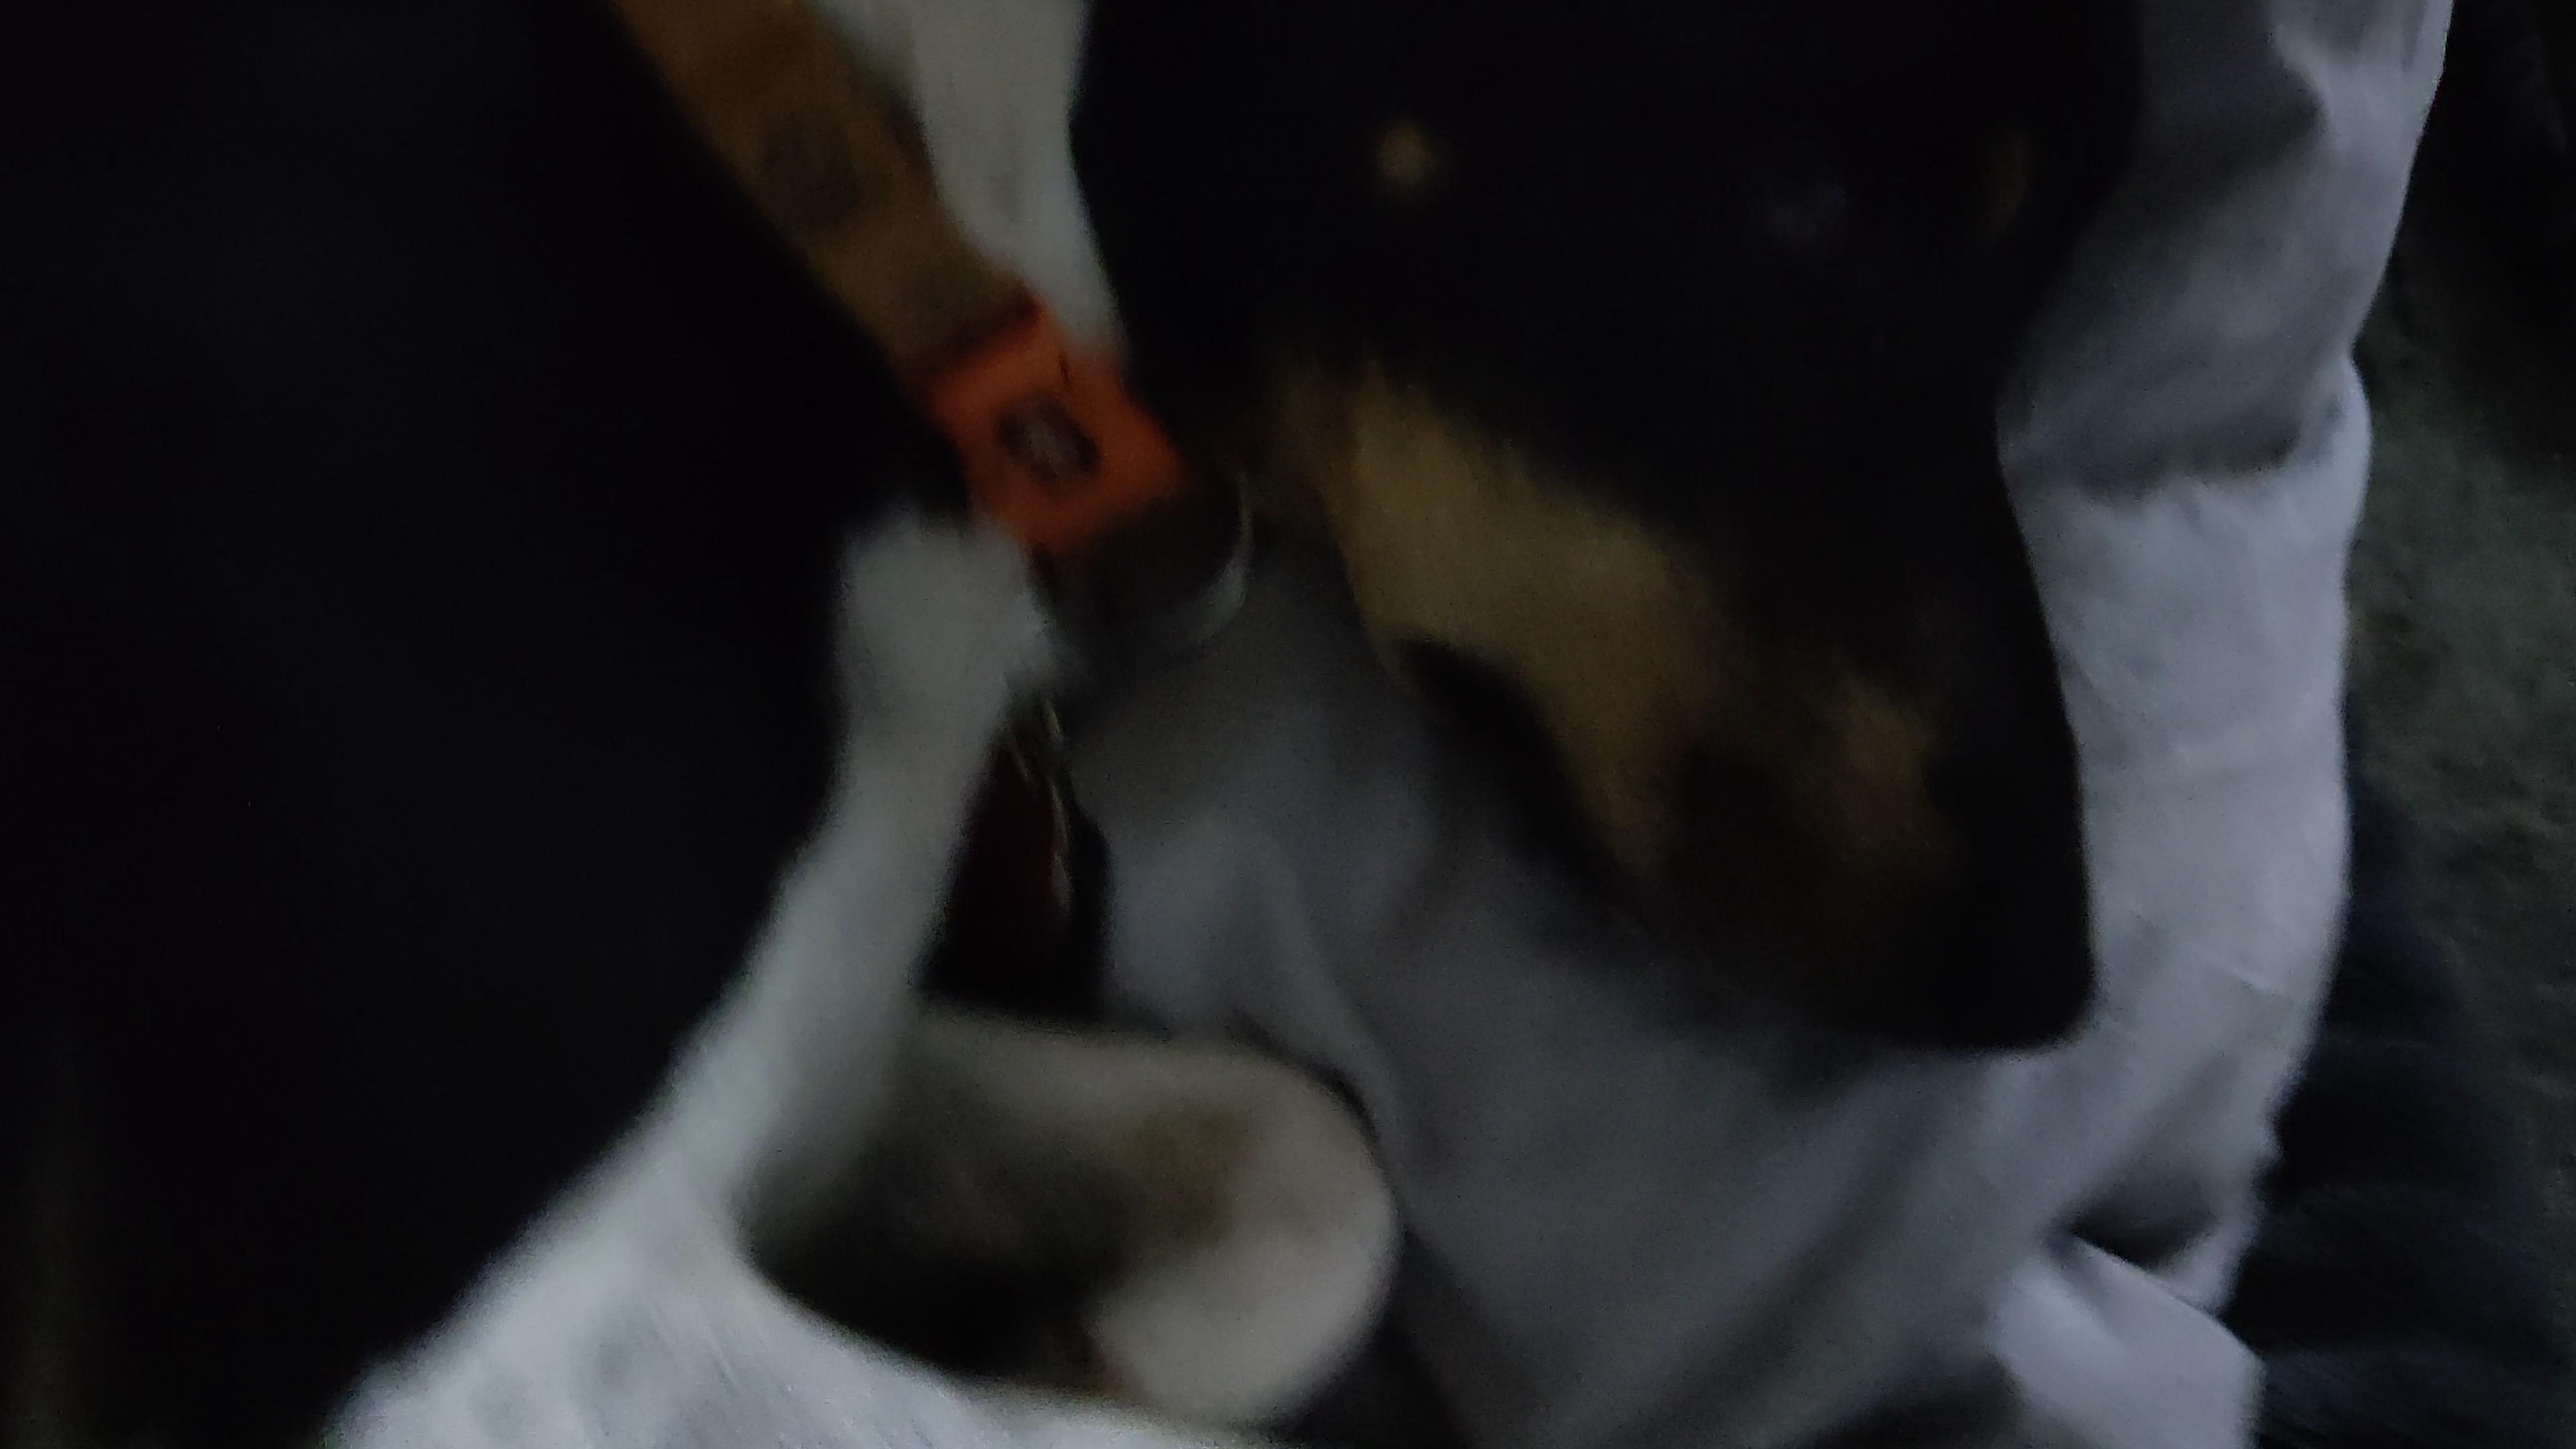Dog: (0, 0, 2160, 1449)
